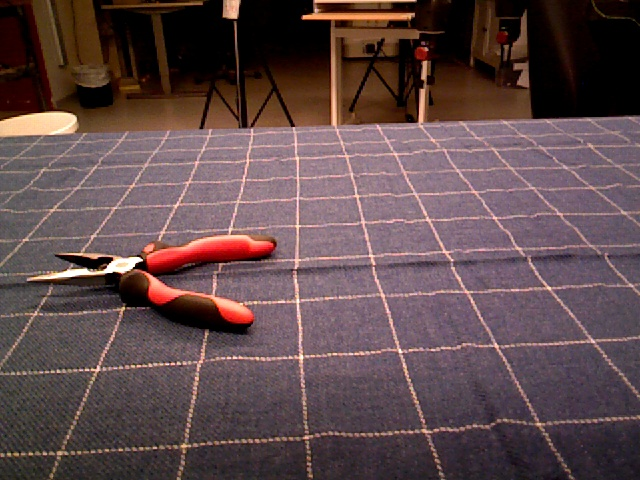plier1: (24, 234, 278, 332)
